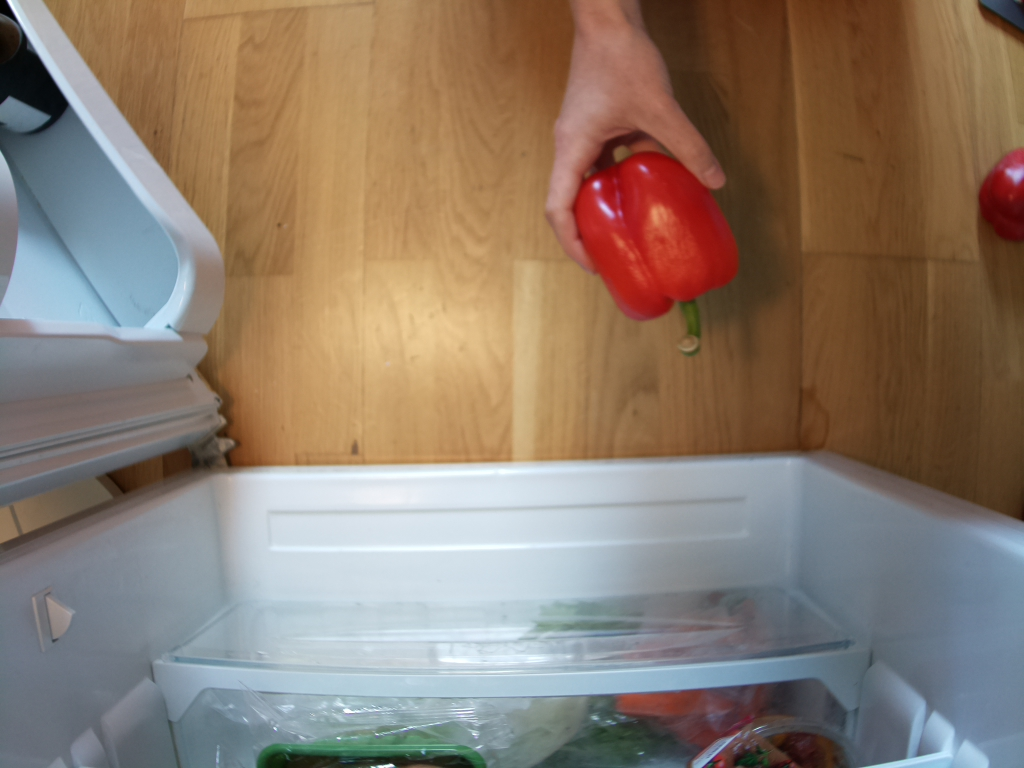pepper-bad: (566, 132, 750, 358)
